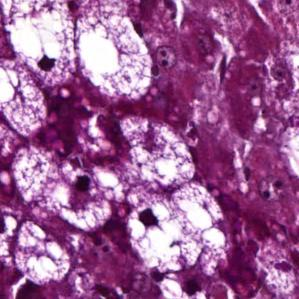ballooning: (10, 142, 117, 235), (73, 6, 157, 104), (125, 186, 204, 276)
